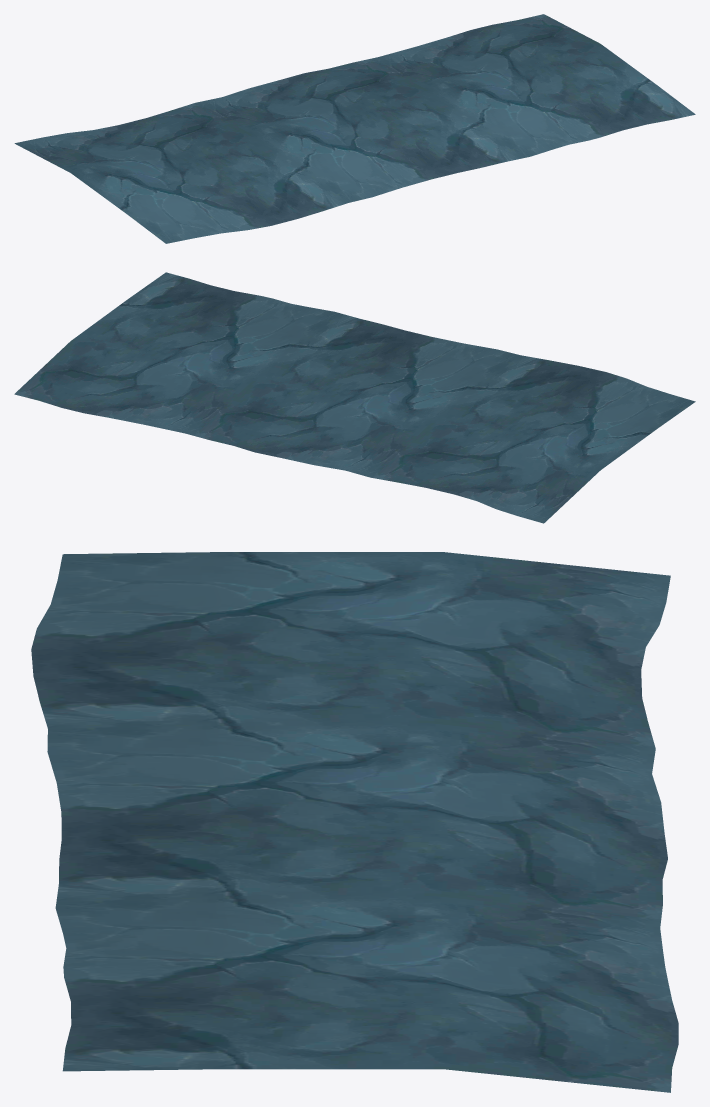
The model's file is map_113_dibiao_2.fbx.
The picture shows the model from 3 angles, top to bottom: view 1: azimuth 30°, elevation 25°; view 2: azimuth 150°, elevation 25°; view 3: azimuth 270°, elevation 25°; orthographic projection. The views are drawn at different scales.
Parts seen in each view (by area): view 1: map_113_dibiao_2; view 2: map_113_dibiao_2; view 3: map_113_dibiao_2.
Boxes of the visible parts, x1,y1,x2,y2 form: map_113_dibiao_2: (14,14,695,243); map_113_dibiao_2: (14,272,695,523); map_113_dibiao_2: (31,552,678,1092).
Size of the model in its own units: 60 by 1.27 by 31.74.
